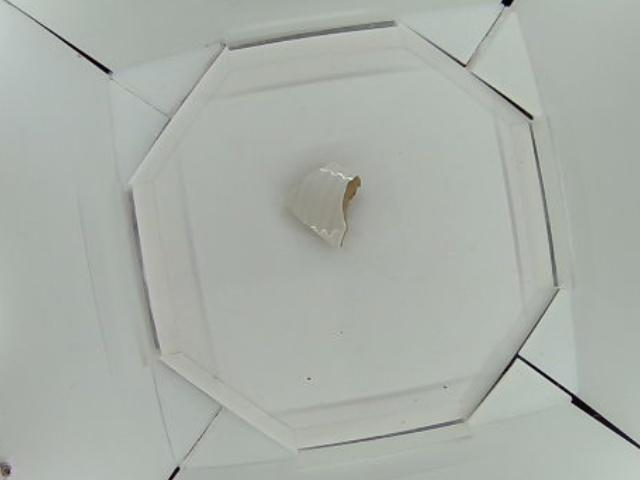China: (284, 157, 359, 244)
